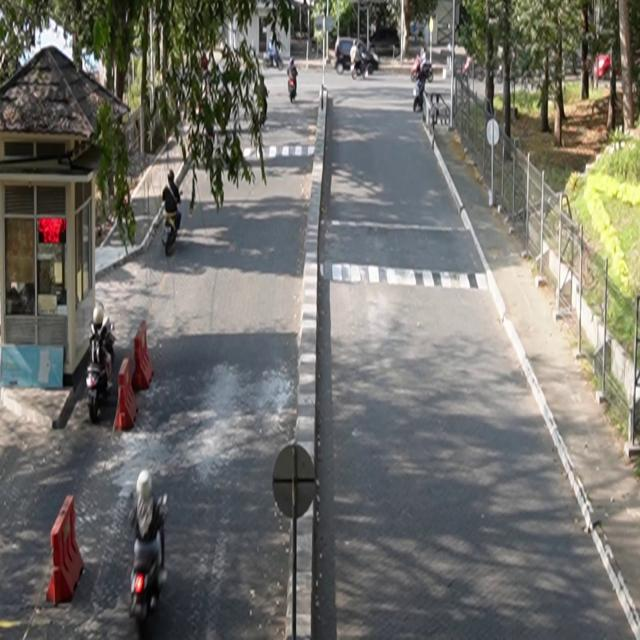car: (336, 38, 380, 77)
